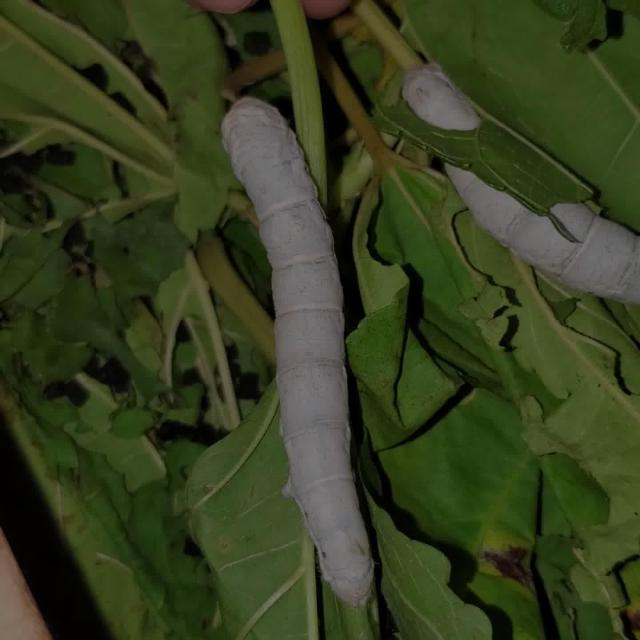Healthy: (169, 70, 463, 626)
